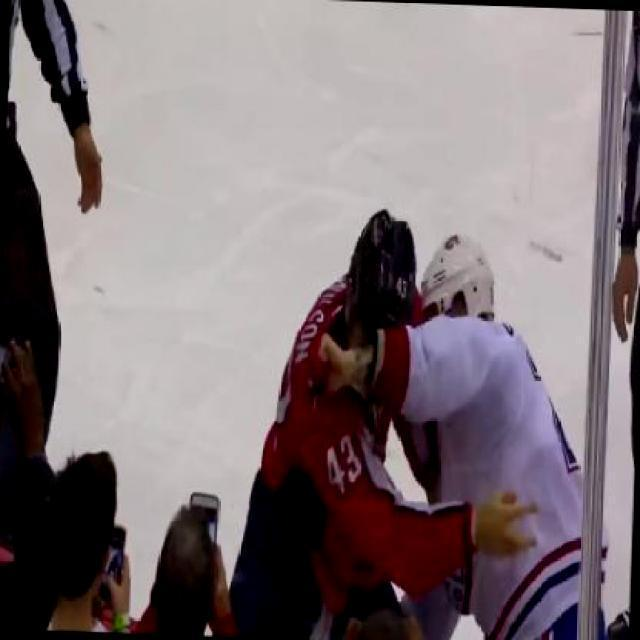fight: (238, 200, 594, 638)
